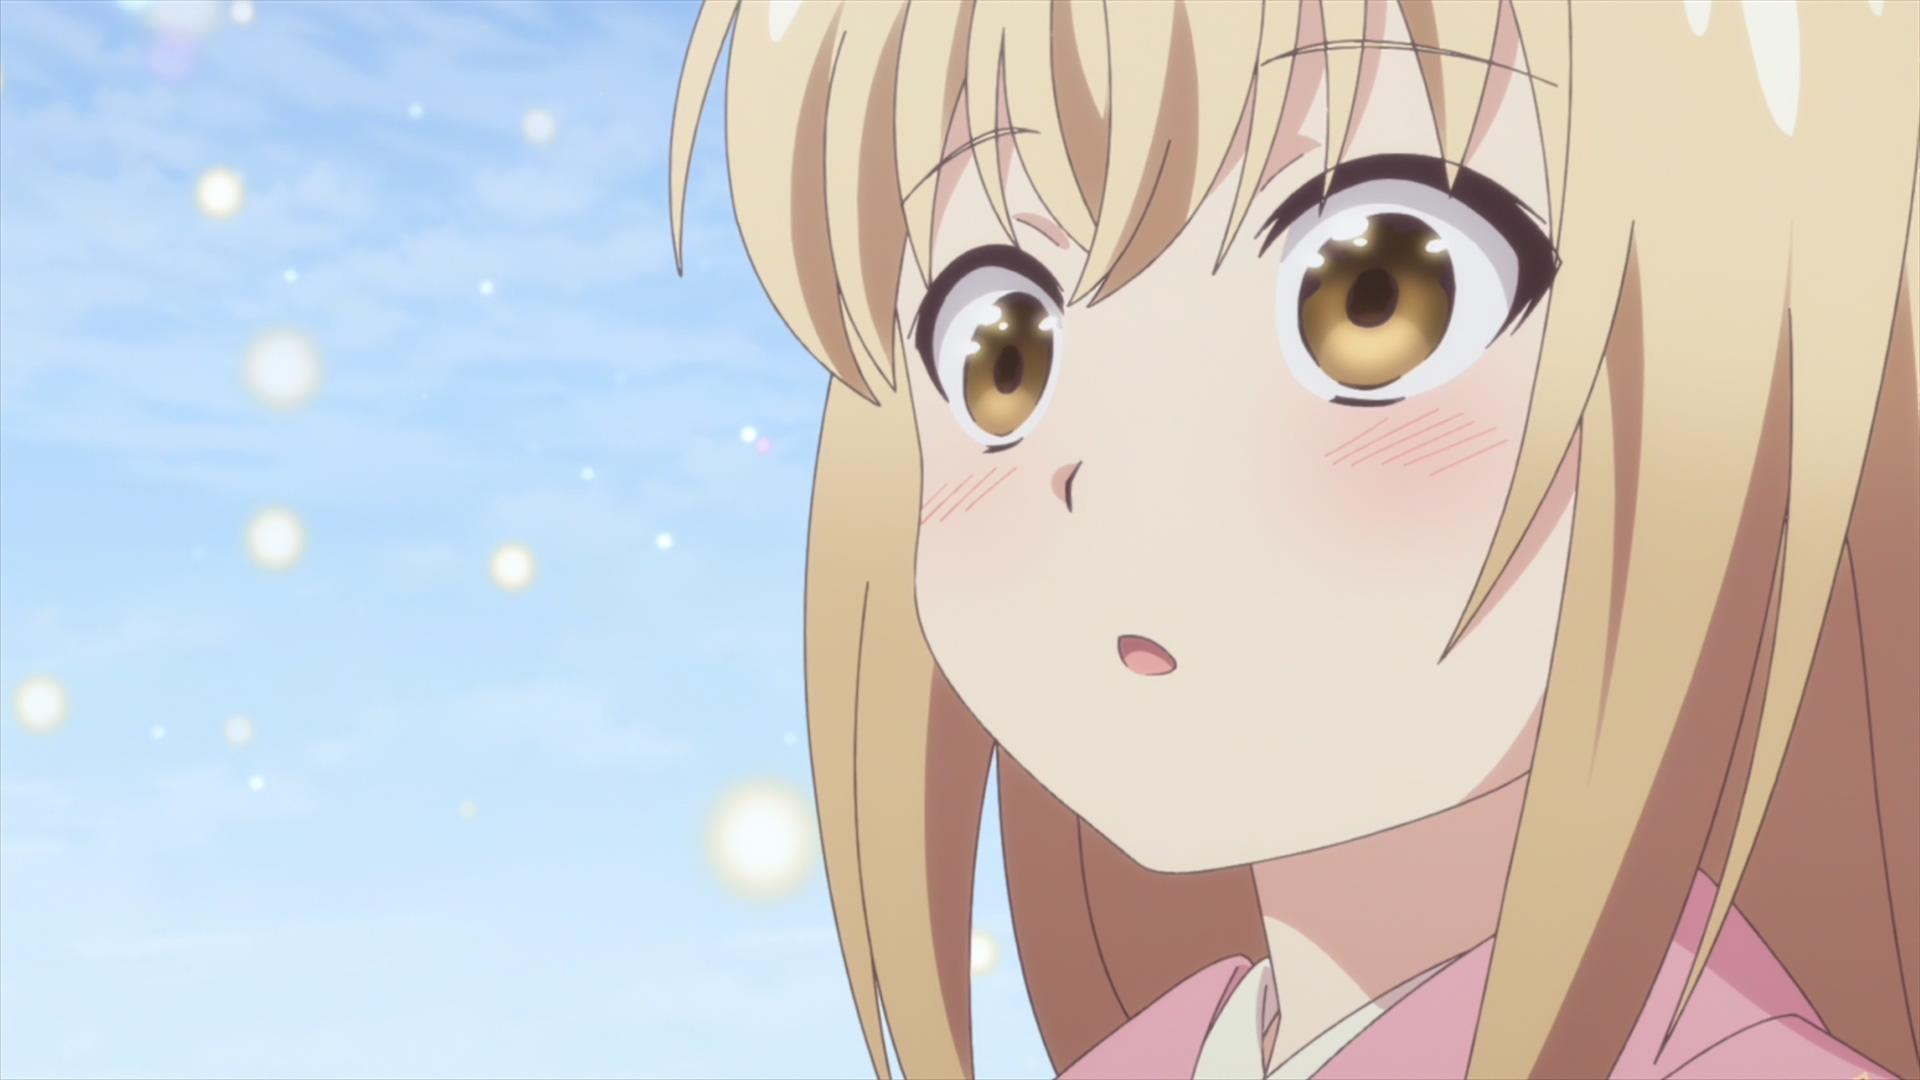柚: (669, 1, 1920, 1080)
